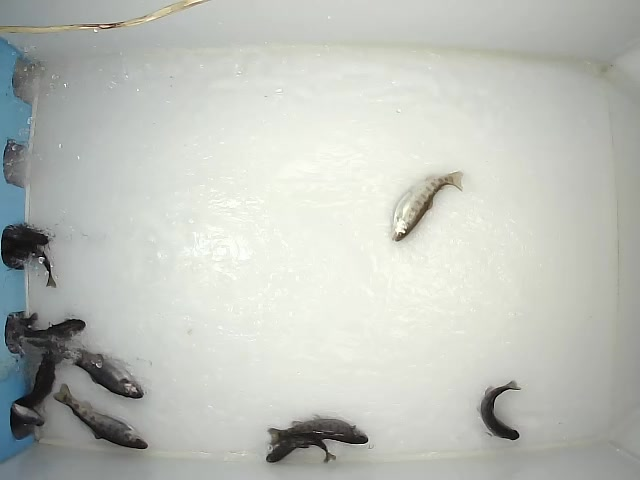fish: (52, 383, 149, 450), (48, 340, 146, 400), (390, 168, 465, 243), (267, 414, 369, 445), (476, 379, 523, 442), (265, 432, 338, 464)
